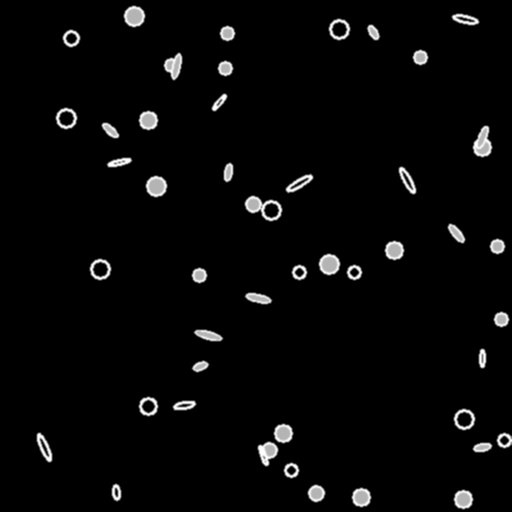pseudomonas: (285, 173, 313, 193), (397, 166, 417, 194), (35, 433, 53, 461), (195, 328, 221, 342), (447, 223, 465, 243), (475, 125, 489, 149), (101, 121, 119, 139), (245, 292, 271, 304), (170, 53, 182, 79), (453, 13, 477, 25), (211, 94, 227, 110), (107, 157, 131, 167), (257, 445, 269, 465), (366, 24, 380, 40), (173, 400, 195, 410), (192, 360, 208, 372), (223, 163, 233, 181), (473, 442, 491, 452), (112, 484, 120, 500), (479, 349, 485, 367)
synechocystis: (455, 410, 473, 428), (262, 201, 280, 219), (320, 255, 338, 273), (125, 7, 143, 25), (330, 20, 348, 38), (57, 109, 75, 127), (91, 260, 109, 278), (147, 177, 165, 195), (455, 491, 471, 507), (353, 489, 369, 505), (140, 398, 156, 414), (386, 242, 402, 258), (474, 139, 490, 155), (140, 112, 156, 128), (275, 425, 291, 441), (262, 443, 276, 457), (246, 197, 260, 211), (64, 31, 78, 45), (309, 486, 323, 500), (221, 27, 233, 39), (293, 266, 305, 278), (498, 434, 510, 446), (348, 266, 360, 278), (193, 269, 205, 281), (414, 51, 426, 63), (285, 464, 297, 476), (495, 313, 507, 325), (219, 62, 231, 74), (165, 59, 177, 71), (491, 240, 503, 252)
